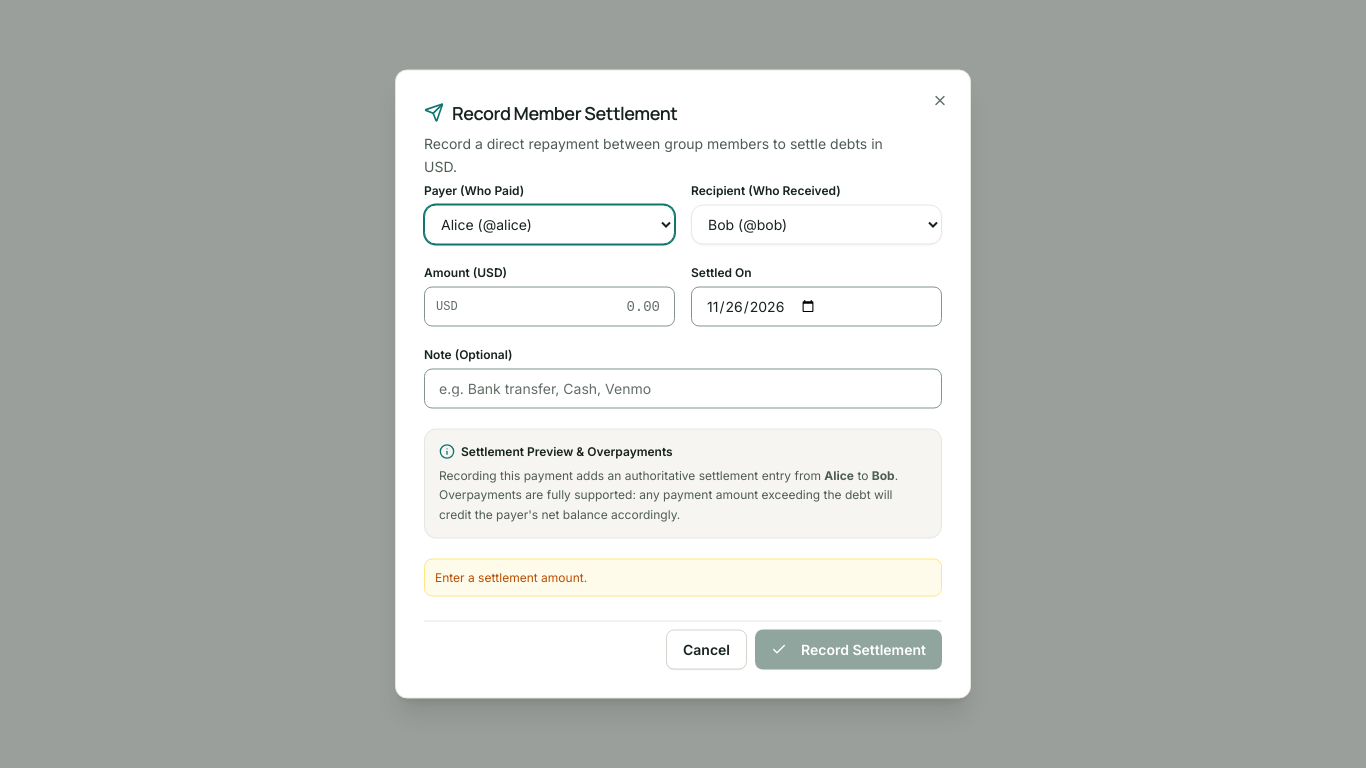
Scenario: Settlements Frontend Tests › RecordSettlementDialog Component › displays overpayment notice when settlement amount exceeds balance
The image size is (1366, 768).
Type "50.00" into the field labelled "Amount (USD)".
click(550, 306); type("50.00")  # box [424,286,675,326]
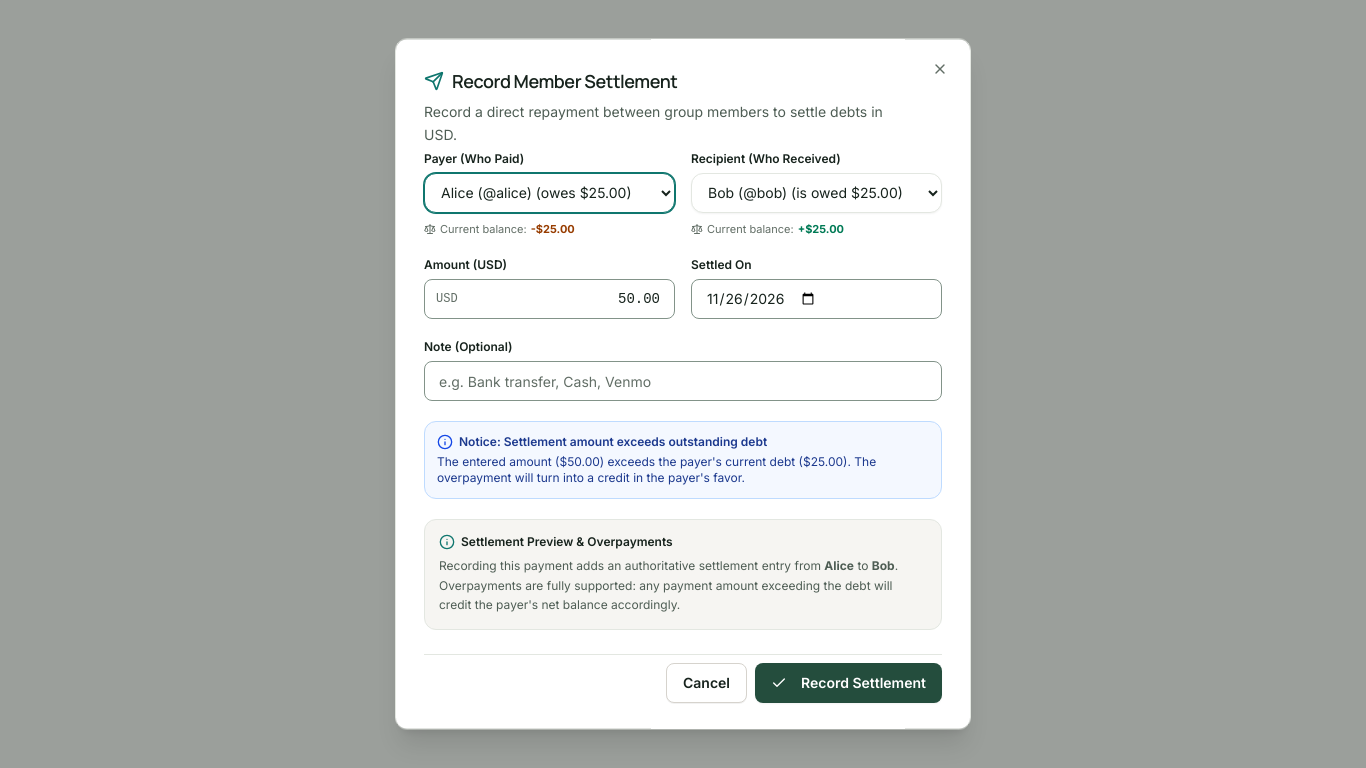
Result: the text "Notice: Settlement amount exceeds outstanding debt" is shown at [459,434,767,450]
